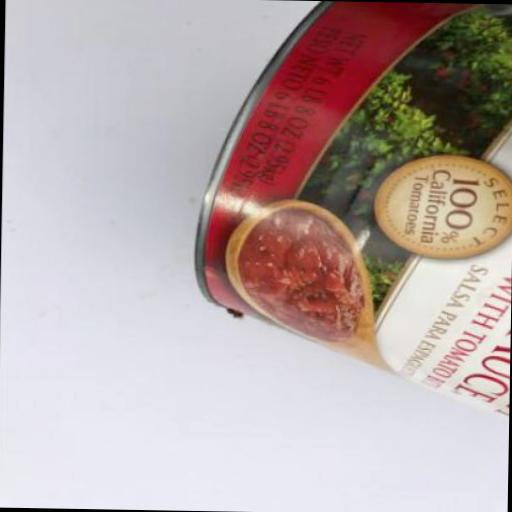metal: (189, 0, 512, 419)
